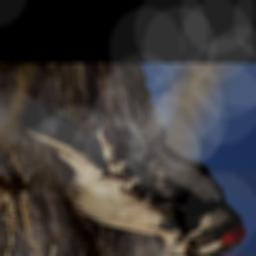Woodpecker: (21, 99, 247, 256)
